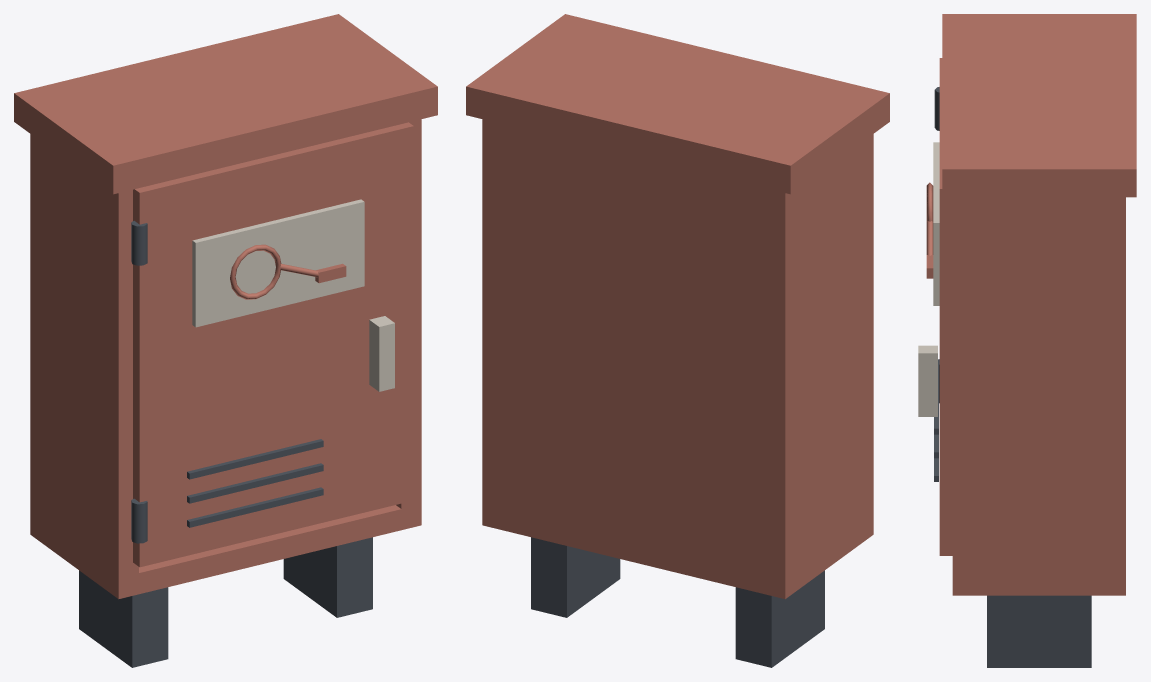
Rendered from komachi-hose-box.glb.
3 views of the same model, side by side, from view 1: azimuth 30°, elevation 25°; view 2: azimuth 150°, elevation 25°; view 3: azimuth 270°, elevation 25° (orthographic). The views are drawn at different scales.
Parts seen in each view (by area): view 1: Hose_Cabinet_And_Reel, Hose_Box_Door; view 2: Hose_Cabinet_And_Reel; view 3: Hose_Cabinet_And_Reel, Hose_Box_Door.
Boxes of the visible parts, x1,y1,x2,y2 form: Hose_Cabinet_And_Reel: (14,14,437,667); Hose_Box_Door: (131,122,413,567); Hose_Cabinet_And_Reel: (466,14,889,667); Hose_Cabinet_And_Reel: (942,14,1136,667); Hose_Box_Door: (918,58,952,555).
Size of the model in its own units: 0.225 by 0.3505 by 0.1335.
